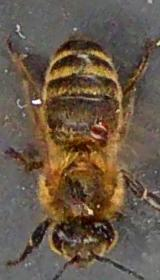varroa_mite: (79, 112, 115, 148)
